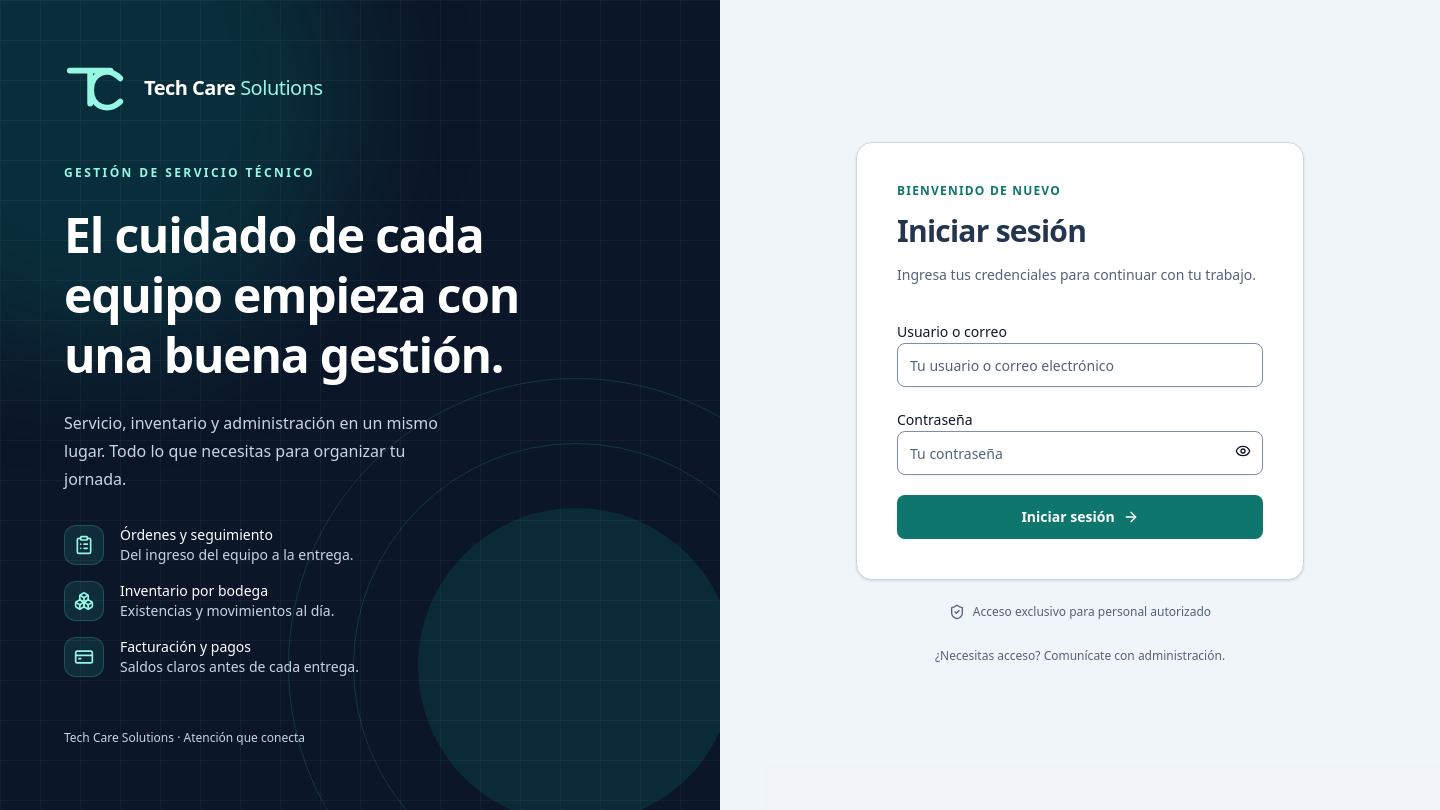
Test case: inicio de sesión › valida los campos obligatorios y enfoca el identificador
The image size is (1440, 810).
Step 1. Click the button "Iniciar sesión" → (1080, 517), box 897,495 -> 1263,539
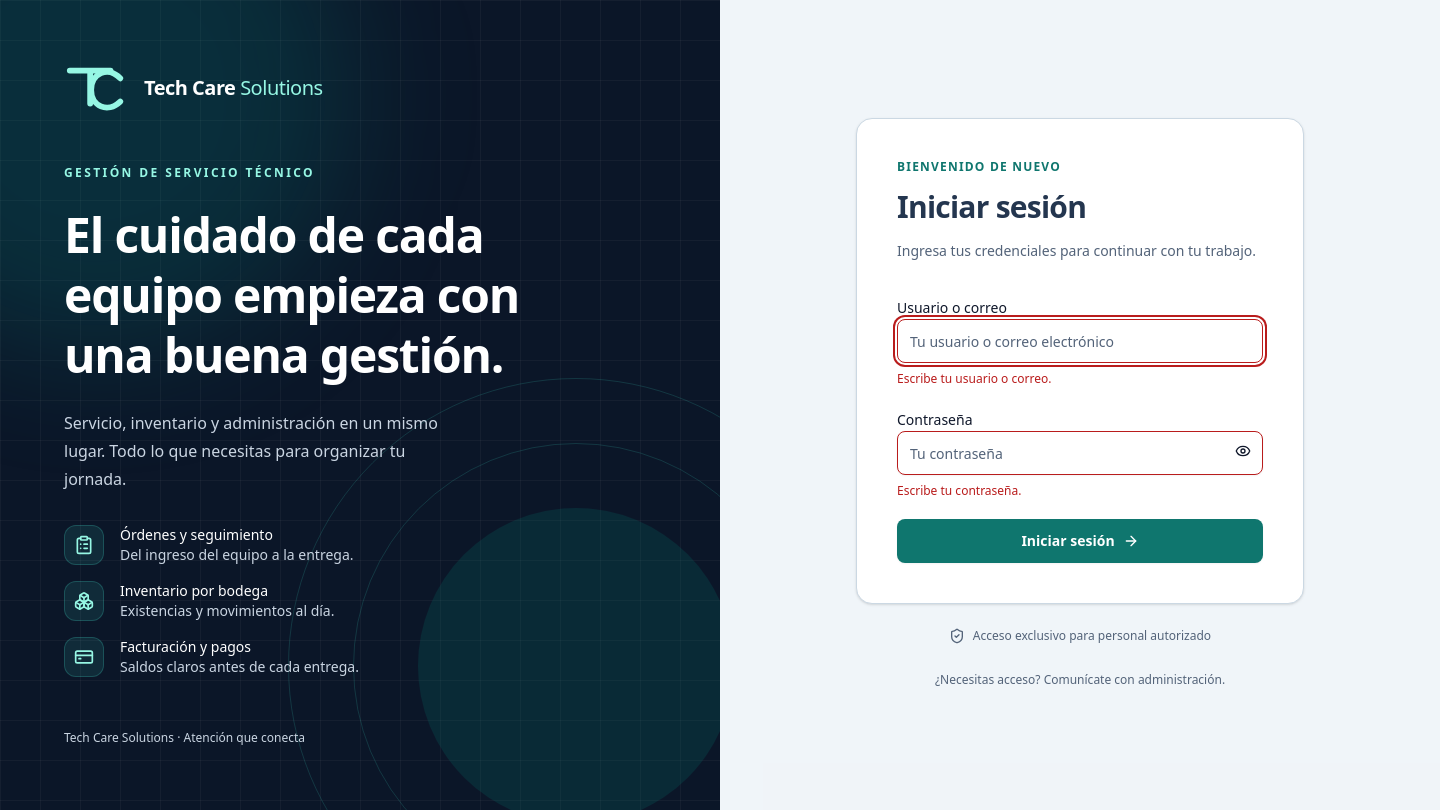
Now the text "Escribe tu usuario o correo." is shown, box 897,370 -> 1051,387
Now the text "Escribe tu contraseña." is shown, box 897,482 -> 1022,499
